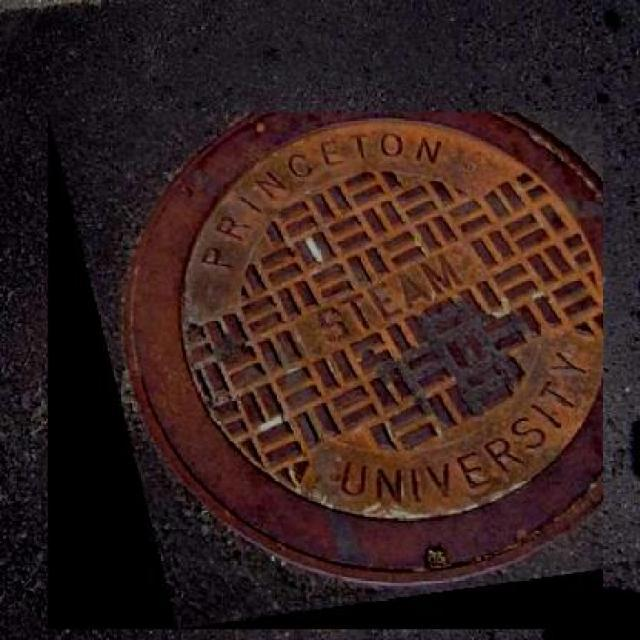Manhole: (47, 112, 604, 630)
Pothole: (628, 408, 640, 486)
